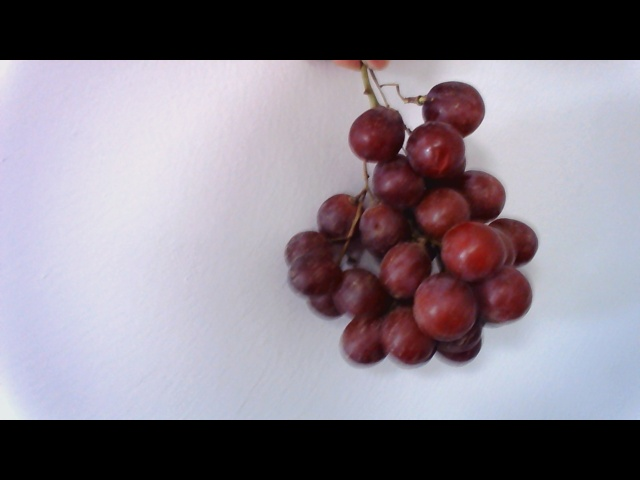grape: (289, 79, 545, 377)
